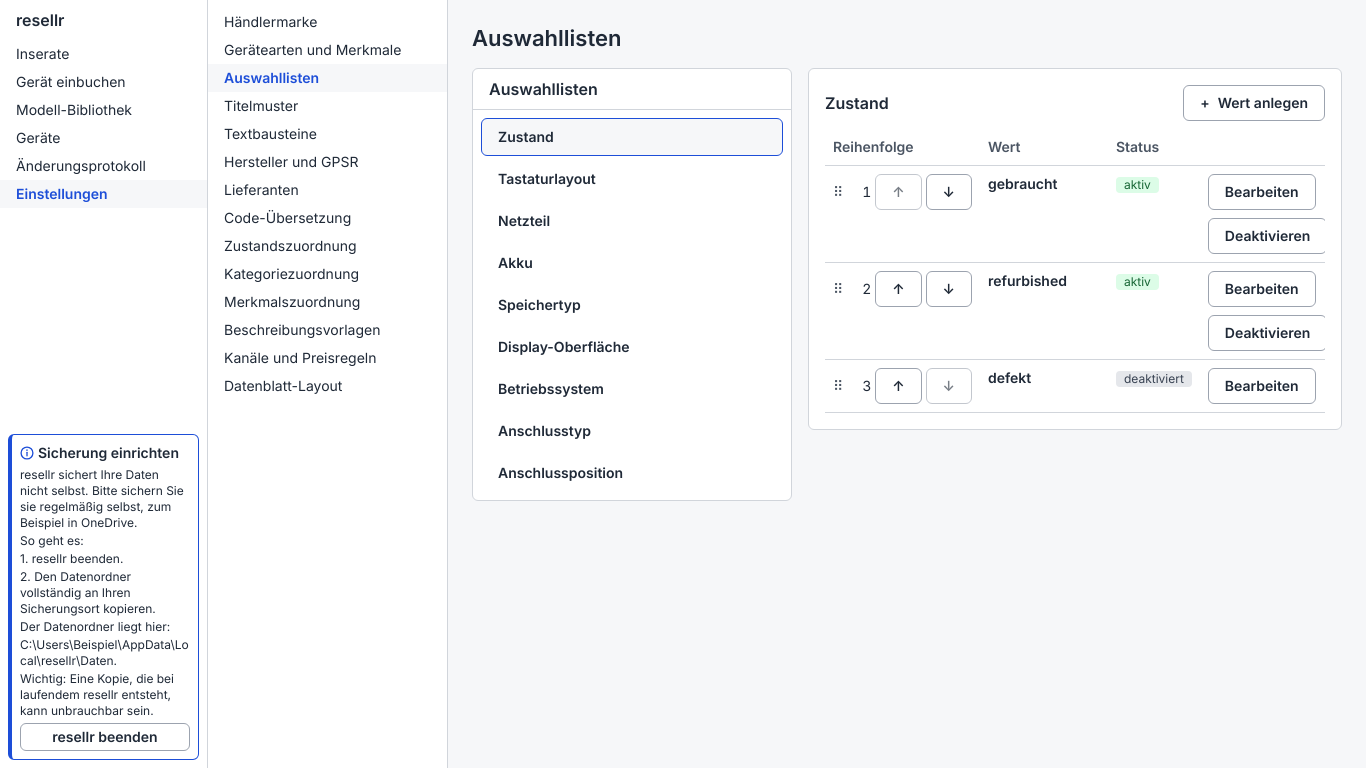
Scenario: UI-028 pick lists (CU-096) › UI-028.success DER-35-03 AC-REQ-007-01 shows "Gespeichert" after "Ungarisch (QWERTZ)" is created and closes it after 5 s
Expected: the row "⠿ 1 ↑ ↓ gebraucht aktiv Bearbeiten Deaktivieren" is shown, [825,165,1325,262]
Step 1. Click the button "Tastaturlayout" → click(547, 178), box [481,160,783,198]
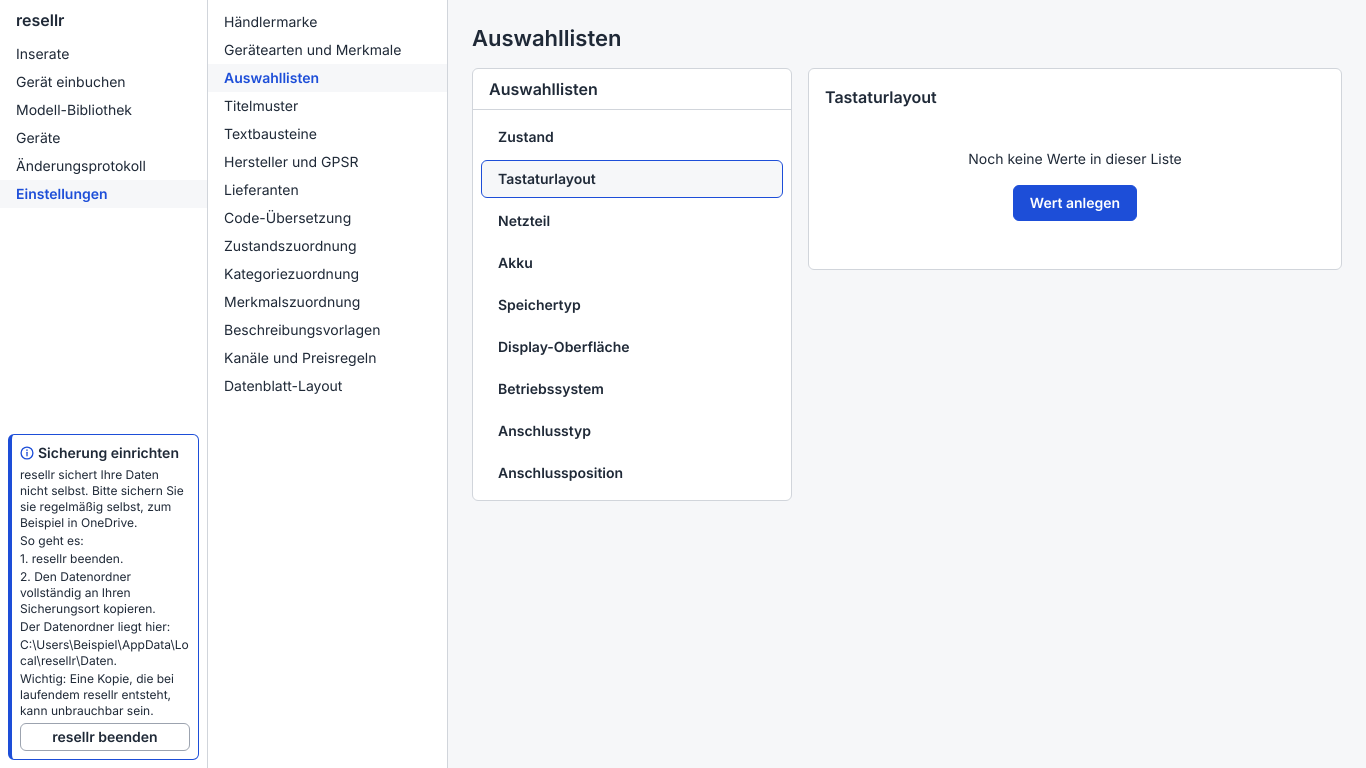
Result: the element "Tastaturlayout" is shown at [808,68,1342,270]
Step 2. Click the button "Wert anlegen" → click(1075, 203), box [1013,185,1137,221]
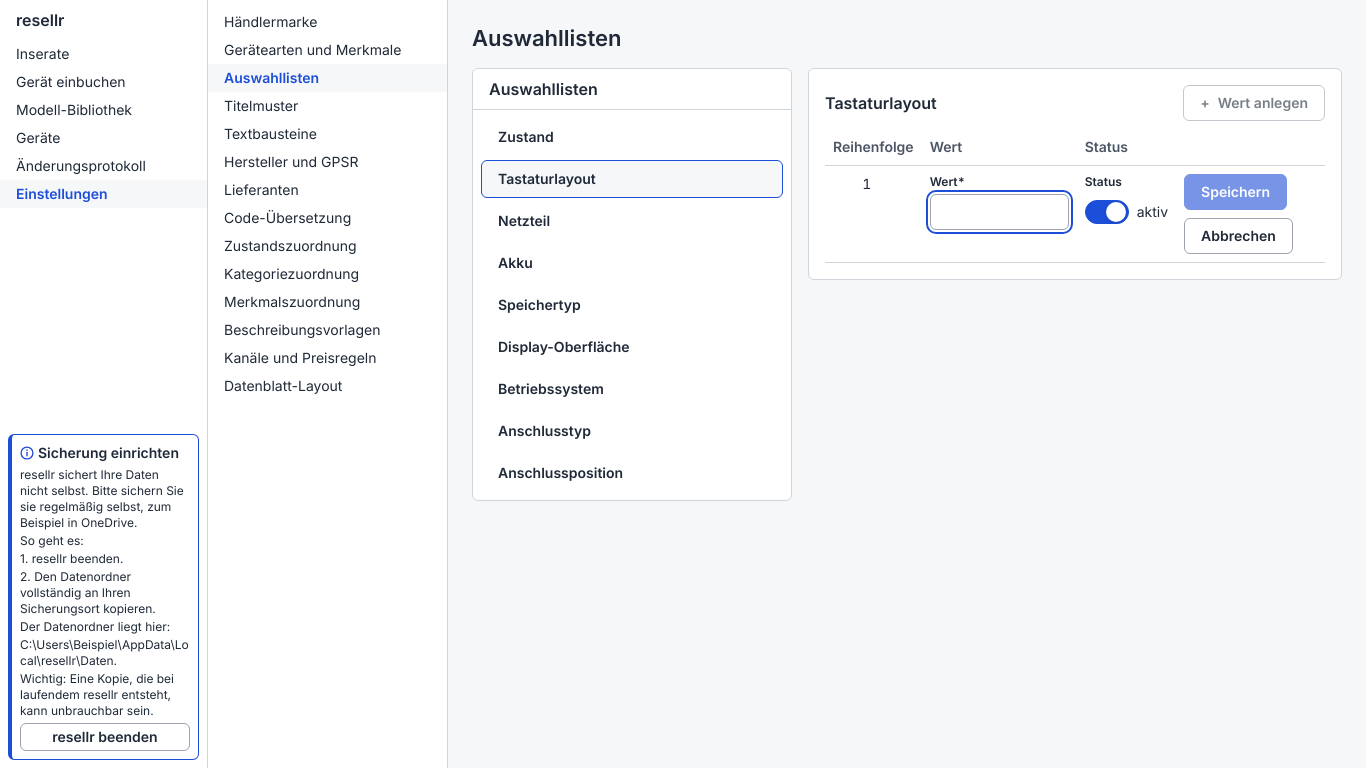
Step 3. Type "Ungarisch (QWERTZ)" into the field labelled "Wert*" → (999, 212), box [930,194,1069,230]
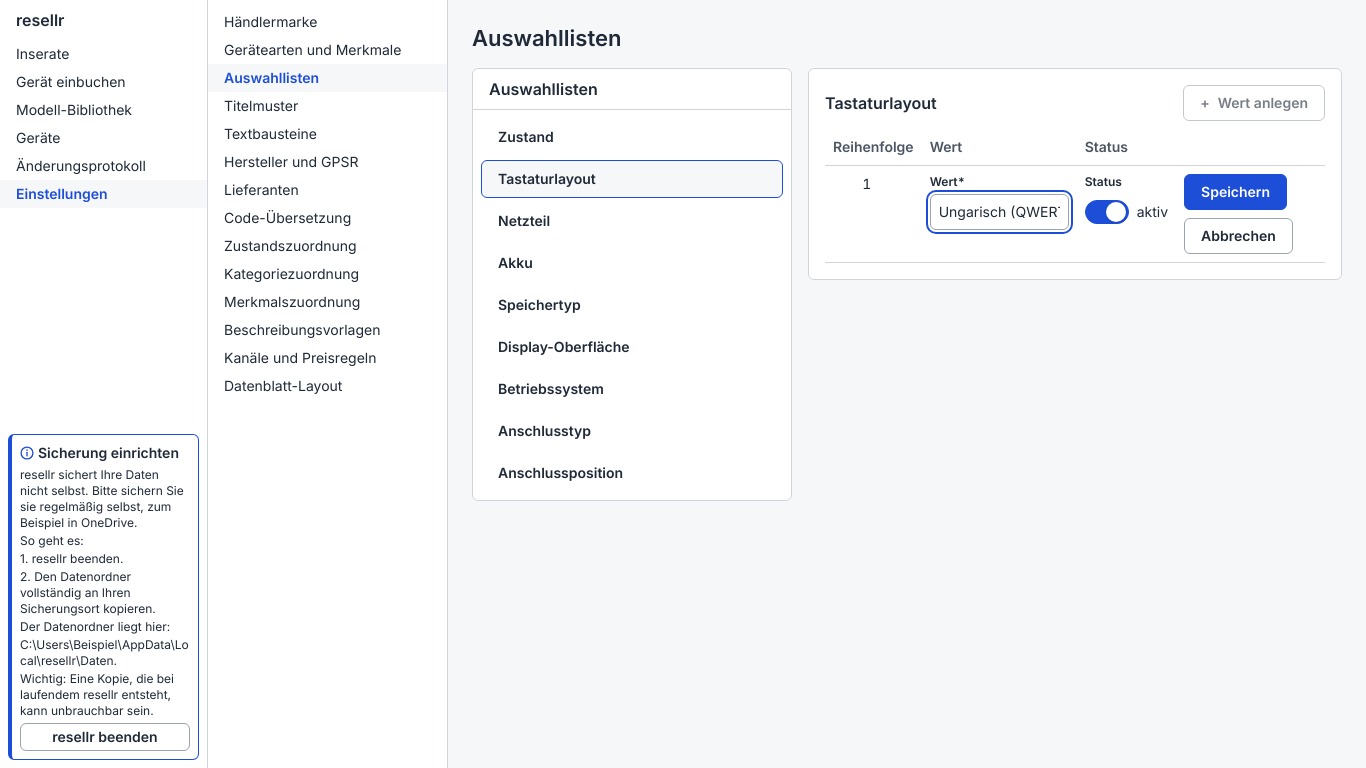
Step 4. Click the button "Speichern" → click(1236, 192), box [1184,174,1287,210]
Wait 5000 ms
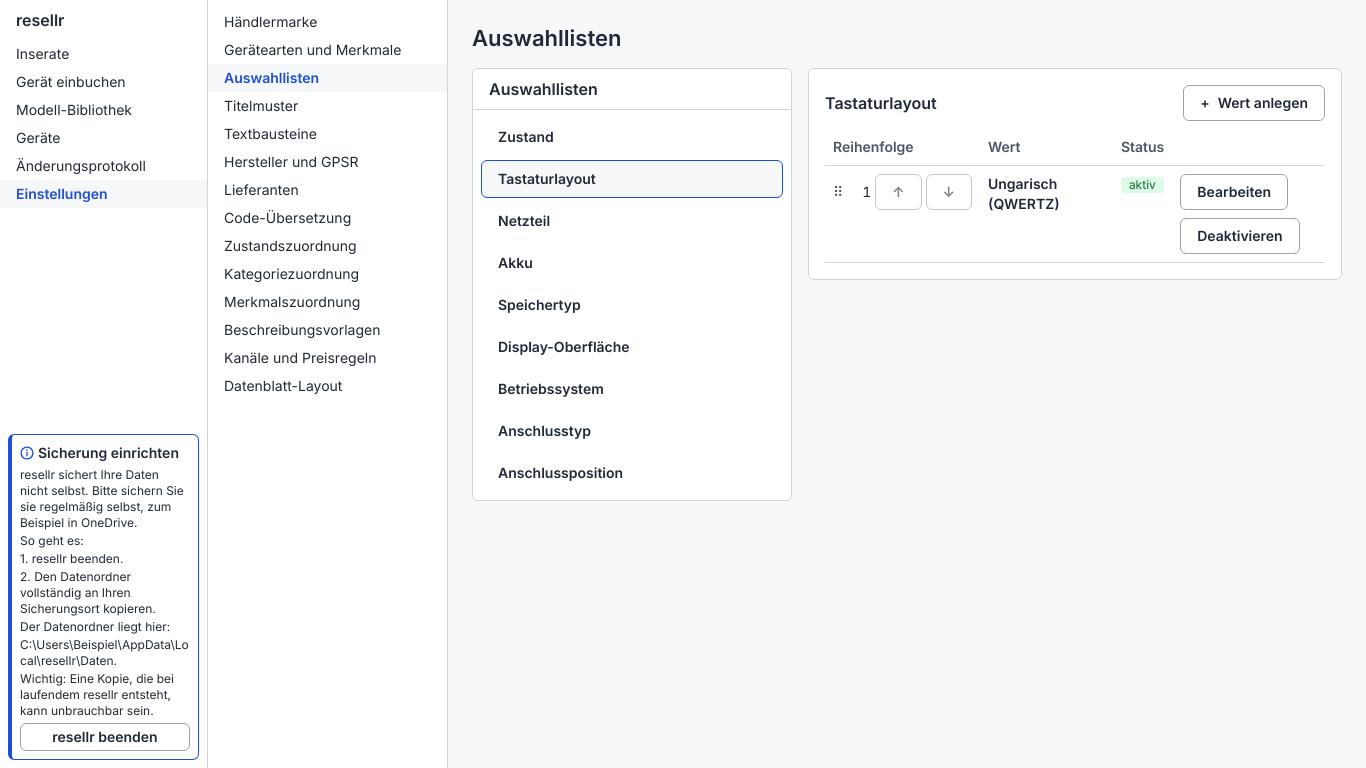
Result: the row "⠿ 1 ↑ ↓ Ungarisch (QWERTZ) aktiv Bearbeiten Deaktivieren" is shown at [825,165,1325,262]
Result: the field is gone
